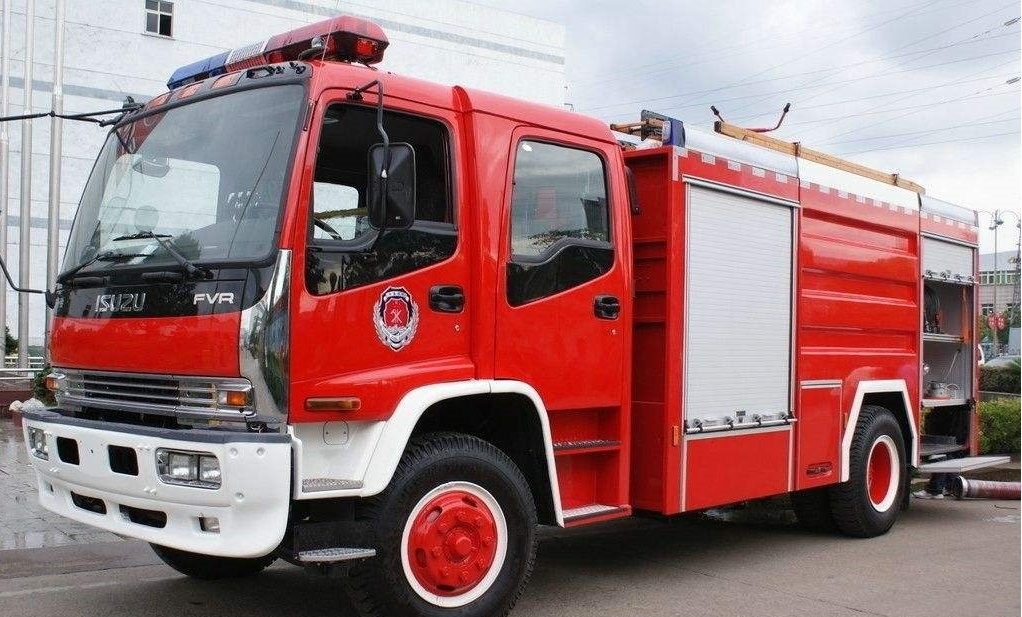fire engine: (16, 26, 1000, 611)
